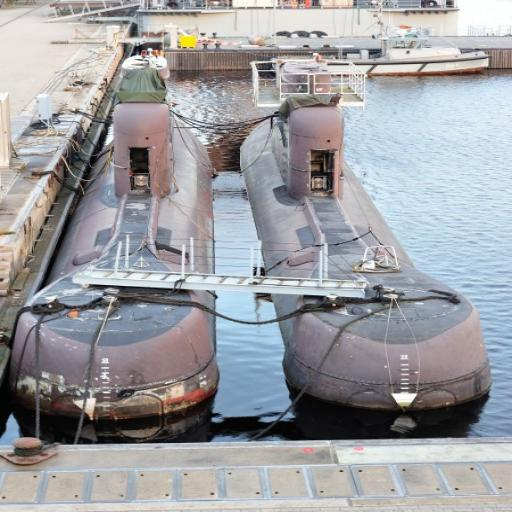submarine: (237, 75, 492, 418), (3, 38, 216, 423)
